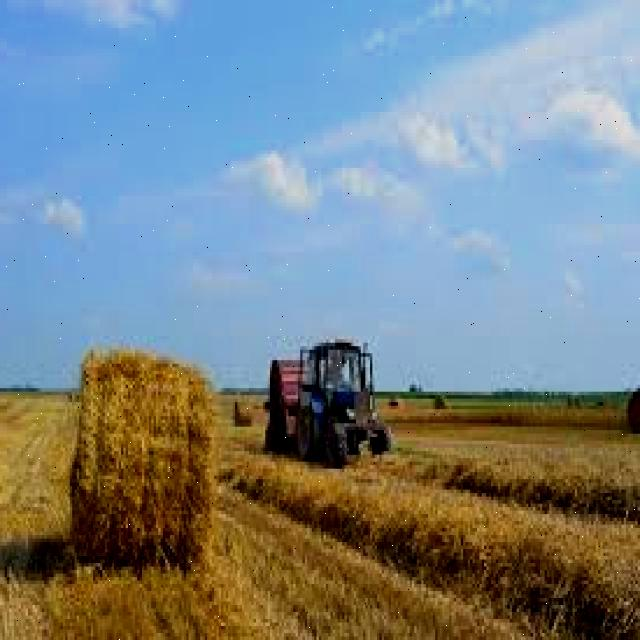Tratores - v5 YOLO V8L 2024-11-13: (296, 338, 392, 468)
